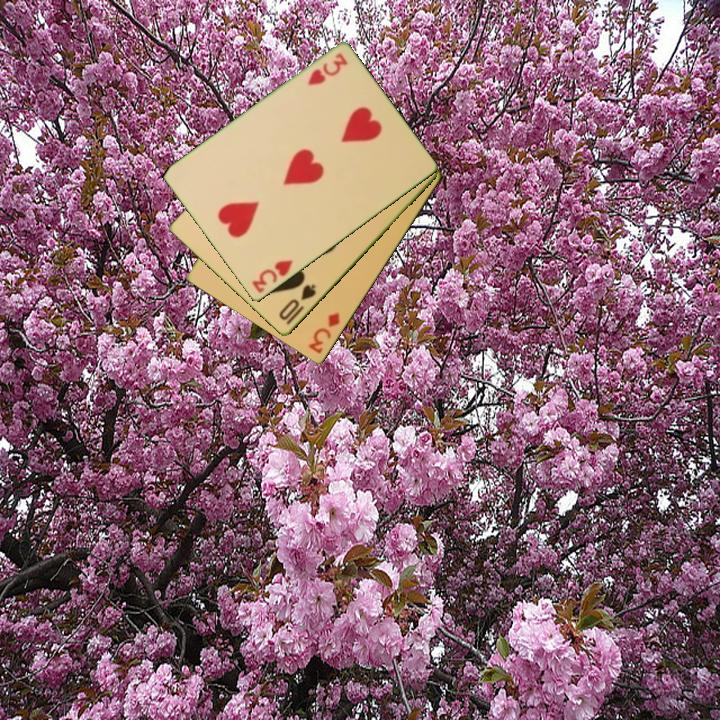10s: (275, 281, 319, 324)
3d: (305, 309, 343, 357)
3h: (248, 257, 296, 296), (304, 50, 351, 89)
